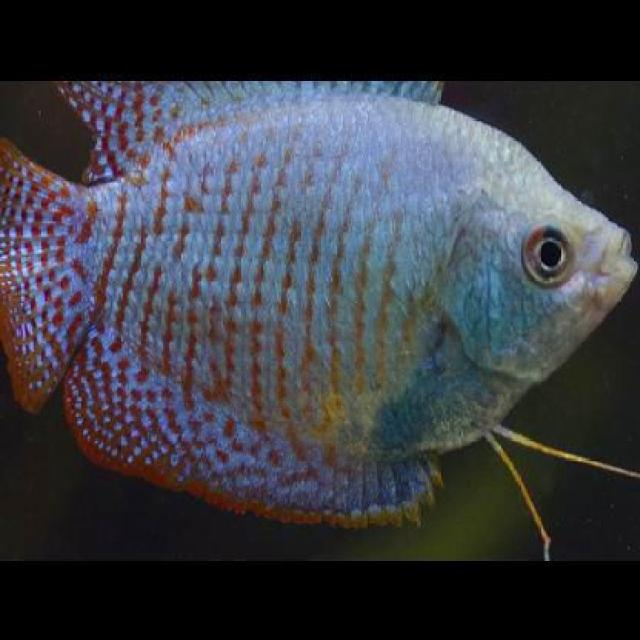Gourami: (0, 78, 638, 536)
